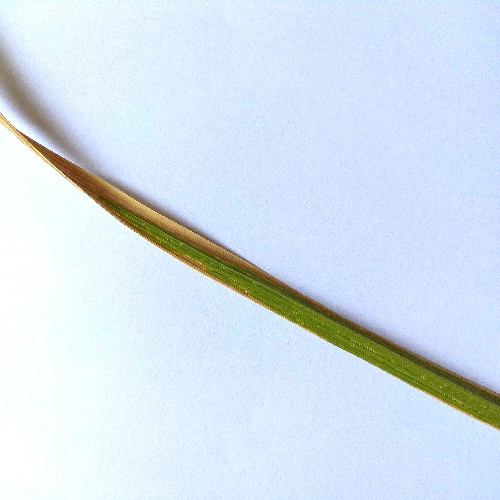Busuk Leher: (7, 114, 90, 193), (168, 208, 217, 239), (126, 192, 163, 223), (92, 175, 123, 197)
